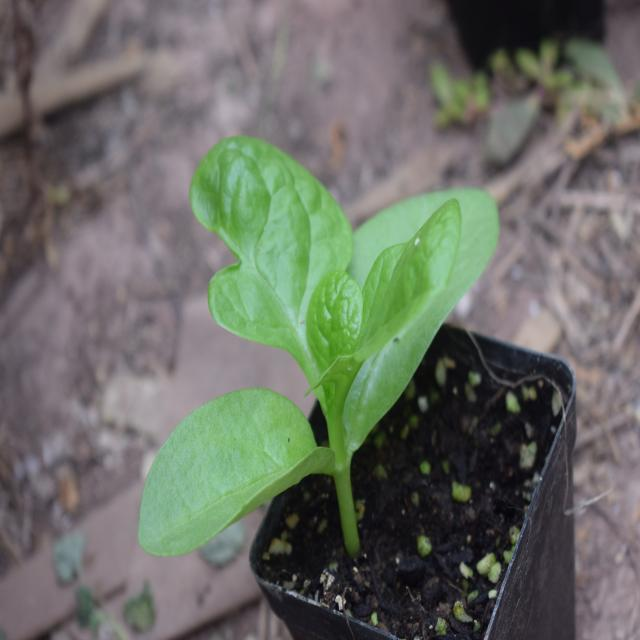Ceylon spinach: (149, 122, 483, 552)
